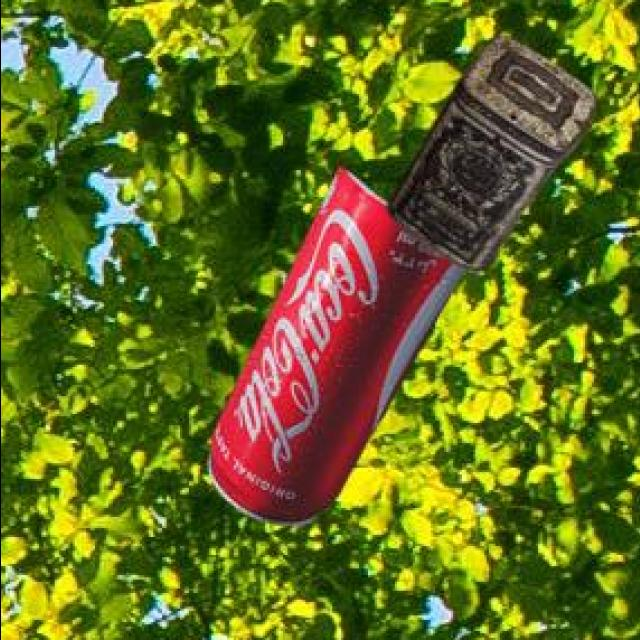logam: (205, 171, 460, 529), (384, 39, 592, 274)
